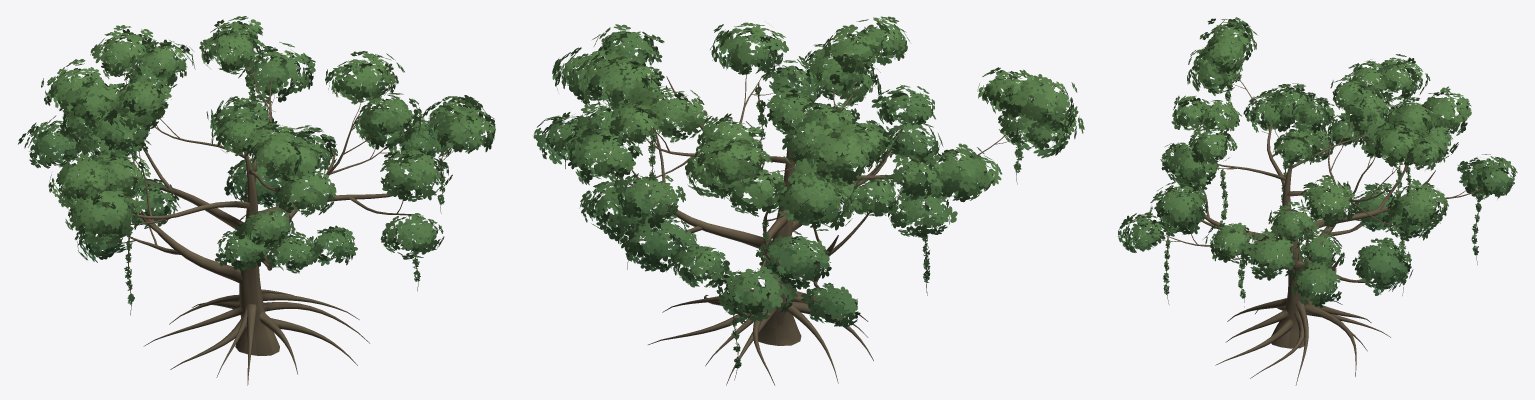
The model's file is tree.gltf.
The picture shows the model from 3 angles, left to right: view 1: azimuth 30°, elevation 25°; view 2: azimuth 150°, elevation 25°; view 3: azimuth 270°, elevation 25°; orthographic projection. The views are drawn at different scales.
Visible parts, largest first — view 1: Tree_LOD0; view 2: Tree_LOD0; view 3: Tree_LOD0.
Part boxes in pixels (x1=…): Tree_LOD0: x1=18, y1=16, x2=495, y2=385; Tree_LOD0: x1=533, y1=16, x2=1084, y2=385; Tree_LOD0: x1=1118, y1=17, x2=1517, y2=385.
Bounding box in the file's own units: 24.98 × 14.03 × 21.77.
2 materials, 2 textured.
